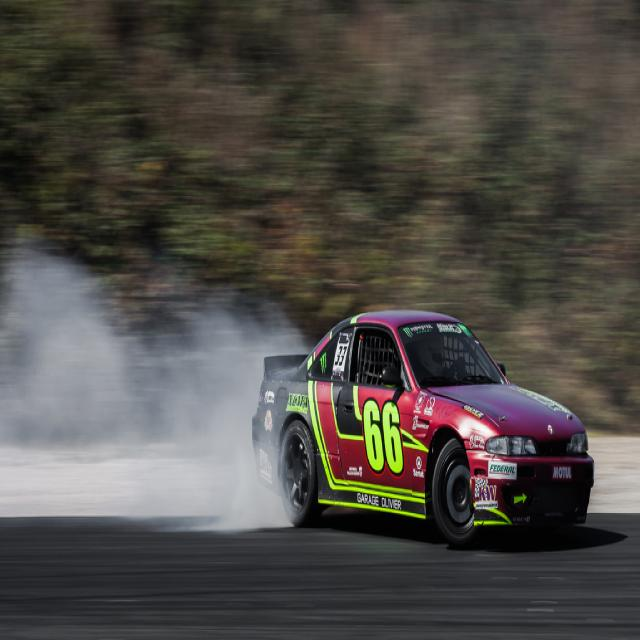car: (253, 304, 595, 546)
